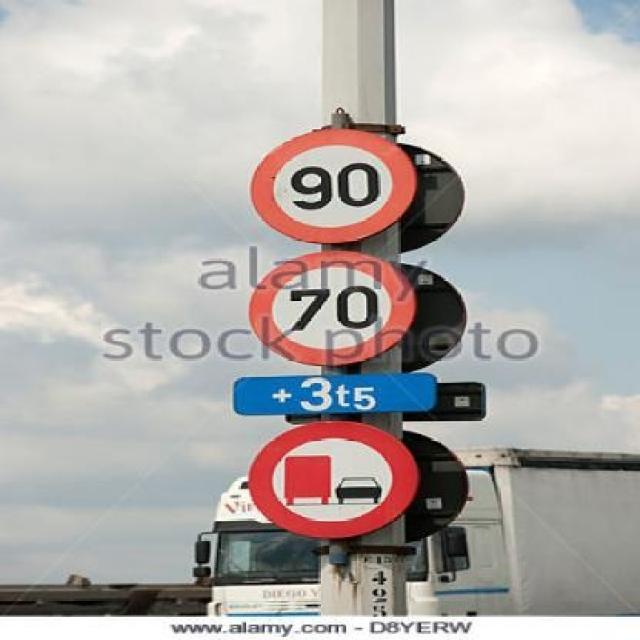forb_speed_over_70: (250, 251, 416, 364)
